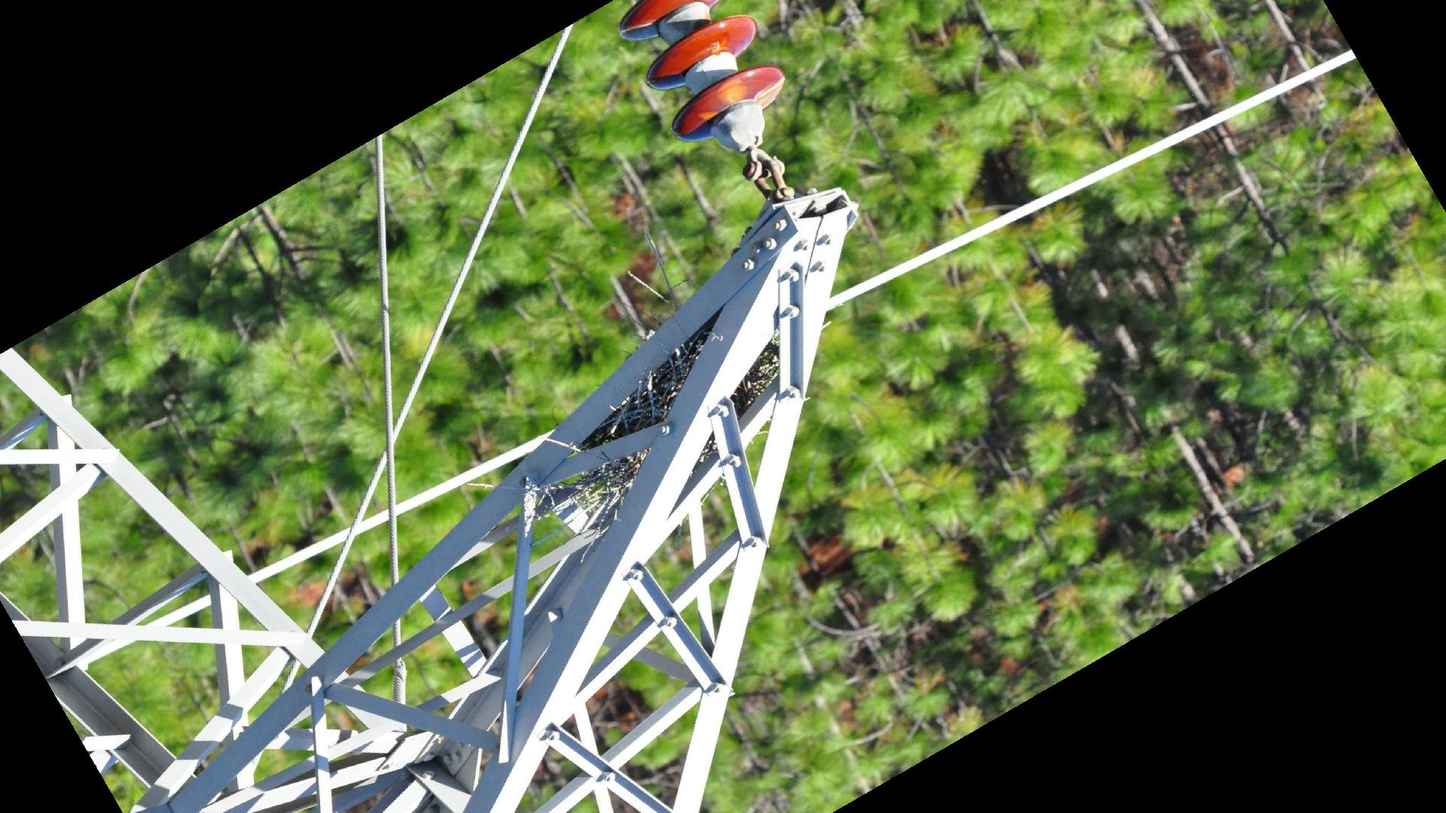insulator: (613, 1, 789, 147)
insulator_flashover: (714, 74, 749, 107), (755, 75, 788, 109), (618, 20, 660, 44)
